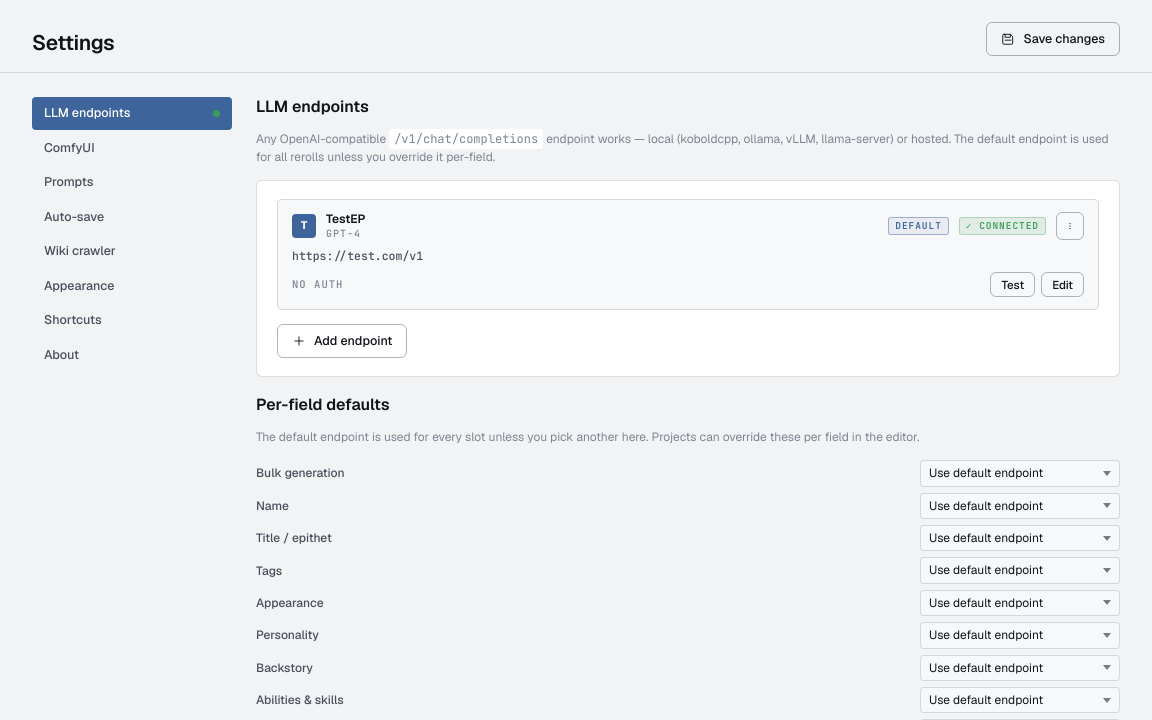
Test: SettingsScreen › closes flyout on backdrop click
Step 1. Click the button "Edit" → (1063, 285), box [1041, 272, 1084, 297]
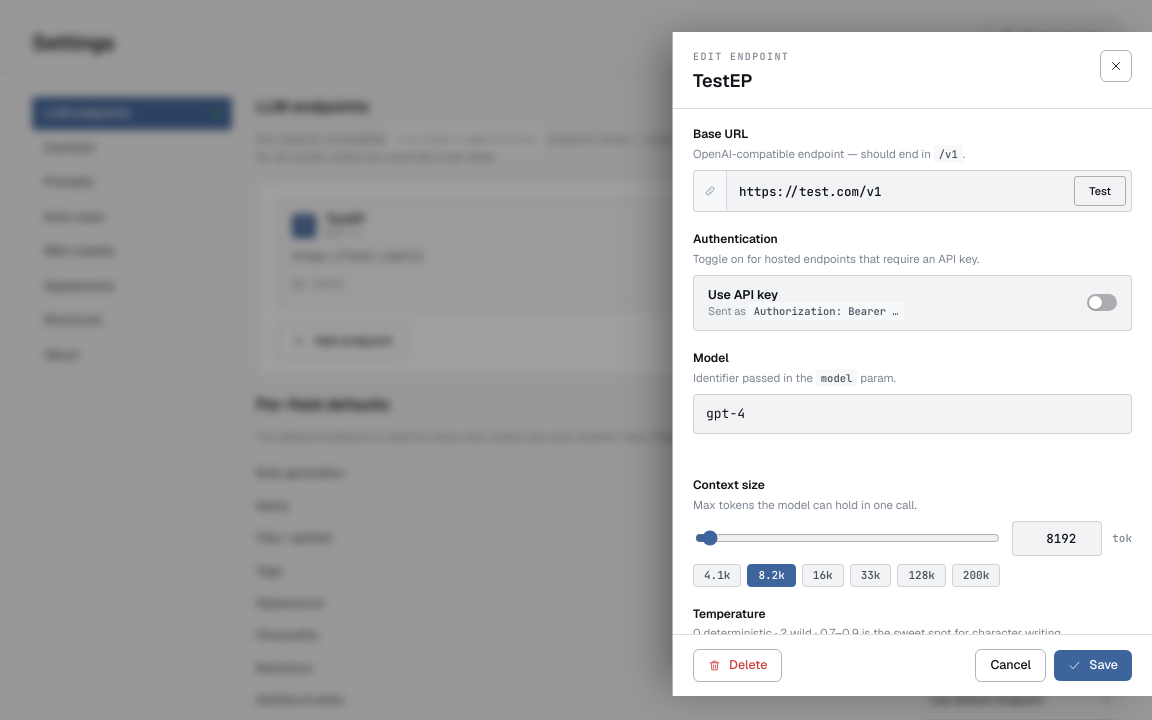
Check: the text "Edit endpoint" is shown, box [693, 50, 789, 63]
Step 2. Click the button with class "ep-flyout-bg" → (576, 360), box [0, 0, 1151, 719]
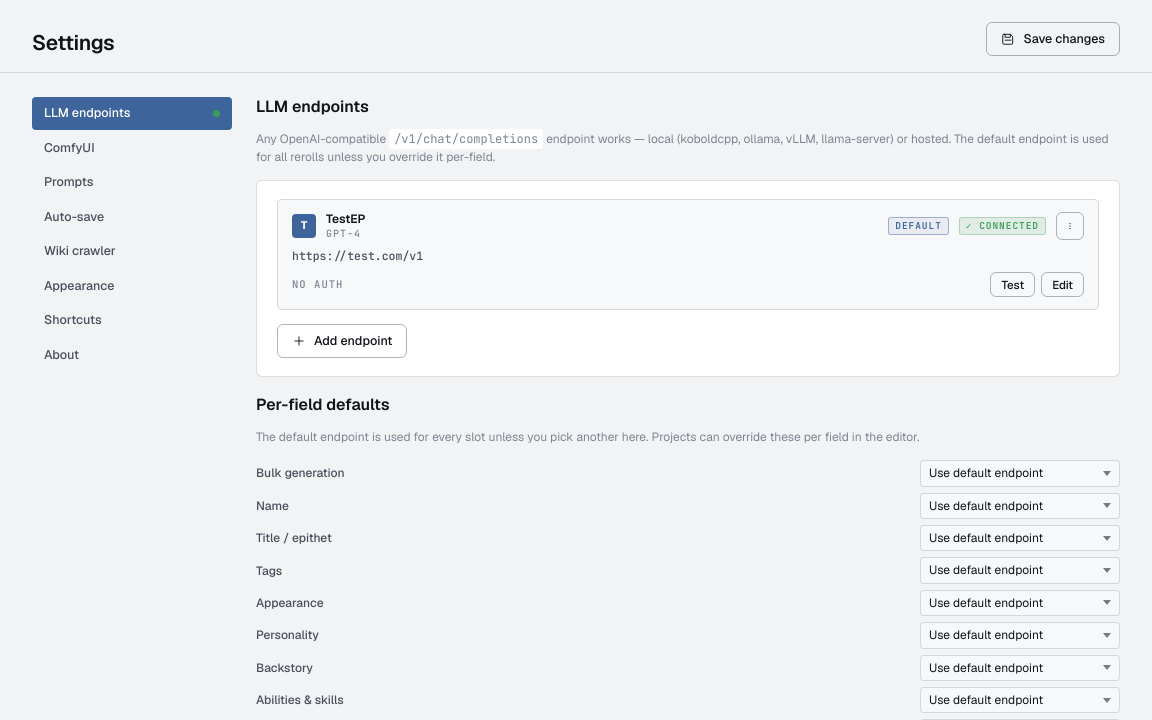
Check: the text "Edit endpoint" is gone
